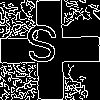S: (25, 25, 59, 72)
